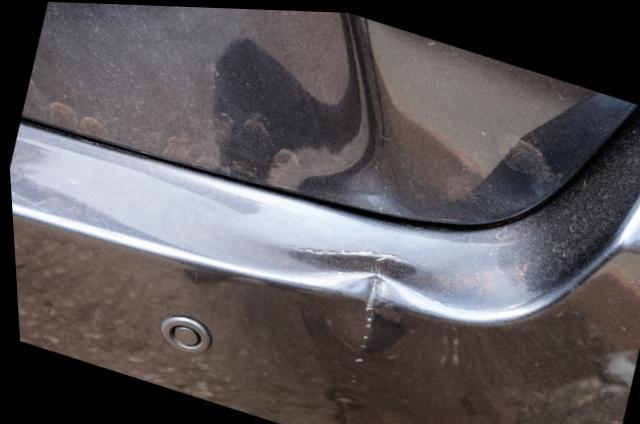dent: (212, 10, 630, 224), (326, 273, 405, 354)
